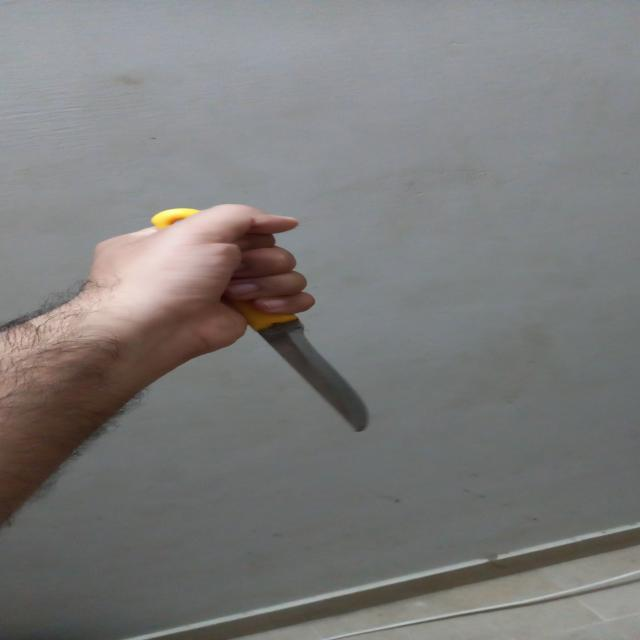Knife: (134, 196, 378, 431)
